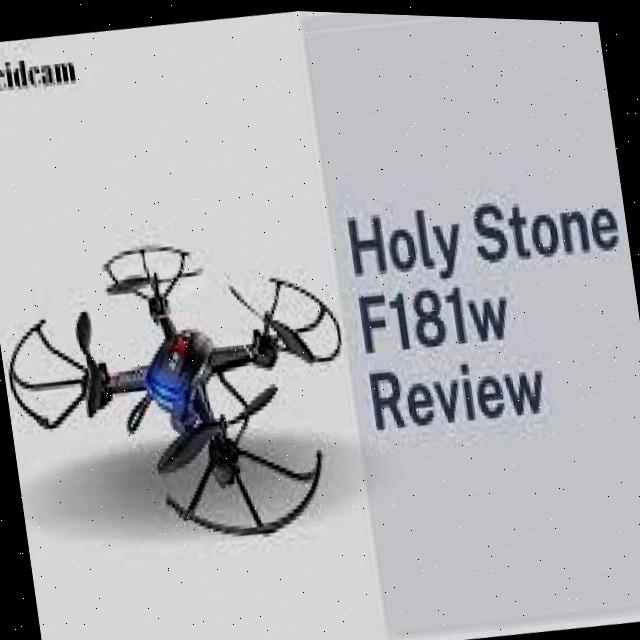drone: (0, 204, 366, 571)
